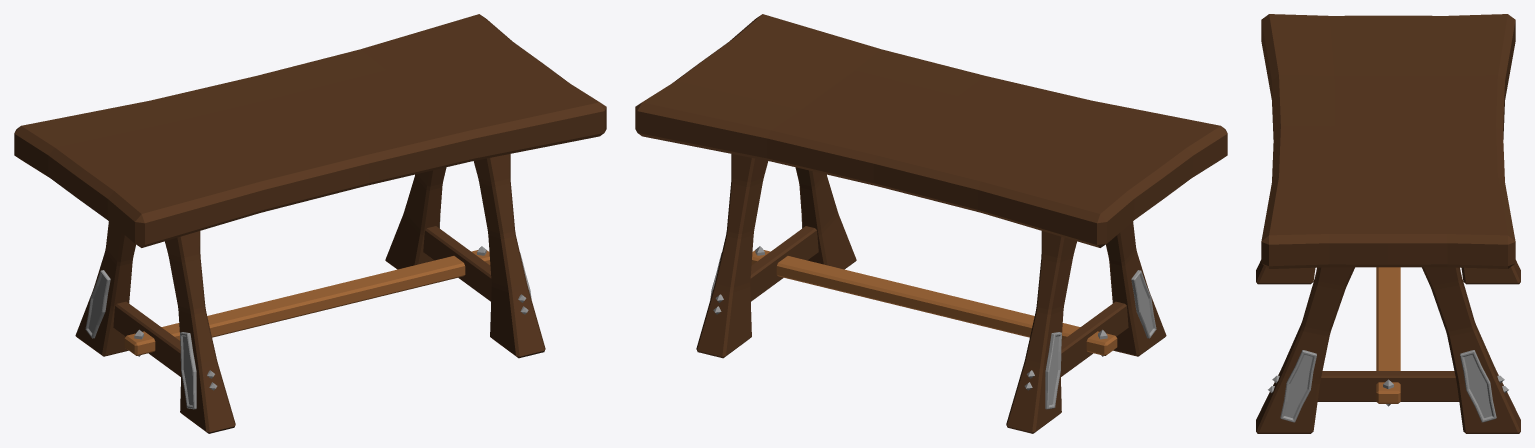
Rendered from Desk.fbx.
3 views of the same model, side by side, from view 1: azimuth 30°, elevation 25°; view 2: azimuth 150°, elevation 25°; view 3: azimuth 270°, elevation 25° (orthographic).
Parts seen in each view (by area): view 1: DeskTopPart, DeskFoot, DeskFootSuport, DeskFootIronDetail; view 2: DeskTopPart, DeskFoot, DeskFootSuport, DeskFootIronDetail; view 3: DeskTopPart, DeskFoot, DeskFootSuport, DeskFootIronDetail.
Part boxes in pixels (left/top/right/bottom): DeskTopPart: left=14, top=14, right=606, bottom=247; DeskFoot: left=75, top=154, right=545, bottom=433; DeskFootSuport: left=124, top=250, right=490, bottom=355; DeskFootIronDetail: left=85, top=218, right=531, bottom=409; DeskTopPart: left=635, top=14, right=1227, bottom=247; DeskFoot: left=696, top=154, right=1166, bottom=433; DeskFootSuport: left=751, top=250, right=1117, bottom=355; DeskFootIronDetail: left=710, top=218, right=1156, bottom=409; DeskTopPart: left=1261, top=14, right=1515, bottom=268; DeskFoot: left=1256, top=260, right=1520, bottom=433; DeskFootSuport: left=1376, top=267, right=1400, bottom=403; DeskFootIronDetail: left=1280, top=350, right=1496, bottom=422.
Bounding box in the file's own units: 2.17 × 1.01 × 1.06.
